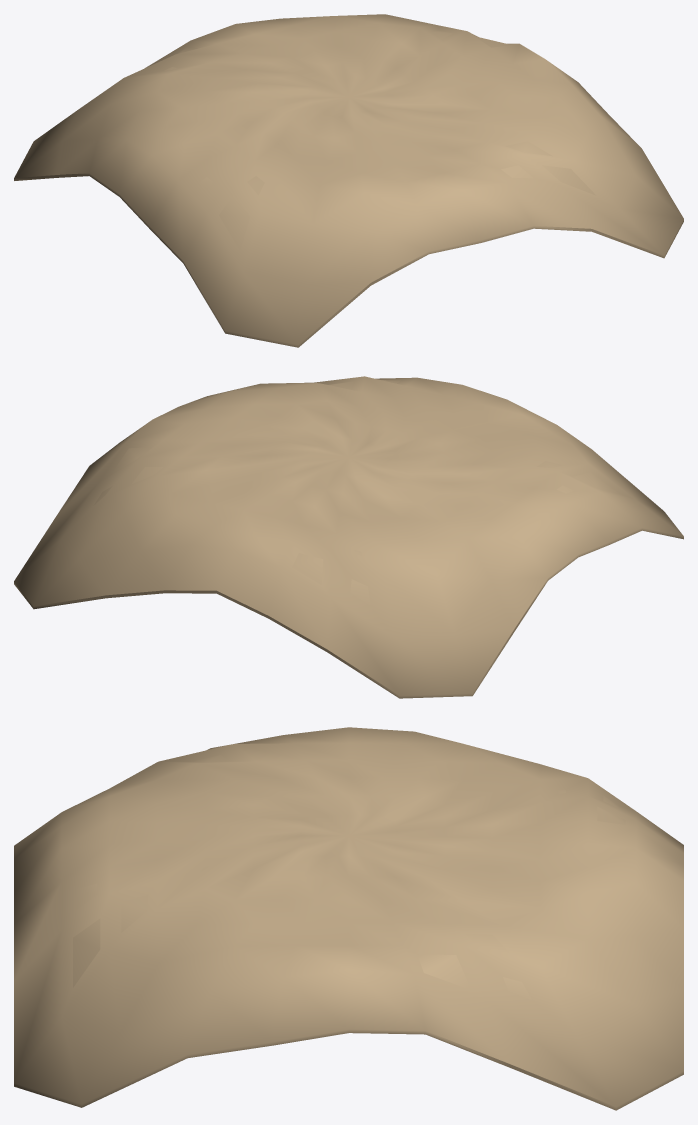
File: gale_ram_hide_draped.glb
3 renders of one model, top to bottom at view 1: azimuth 30°, elevation 25°; view 2: azimuth 150°, elevation 25°; view 3: azimuth 270°, elevation 25°, orthographic. The views are drawn at different scales.
Visible parts, largest first — view 1: gale_ram_hide_draped; view 2: gale_ram_hide_draped; view 3: gale_ram_hide_draped.
Part boxes in pixels (bbox=[...]): gale_ram_hide_draped: bbox=[14, 14, 683, 347]; gale_ram_hide_draped: bbox=[14, 376, 683, 698]; gale_ram_hide_draped: bbox=[14, 727, 683, 1110].
Size of the model in its own units: 0.22 by 0.05 by 0.22.
